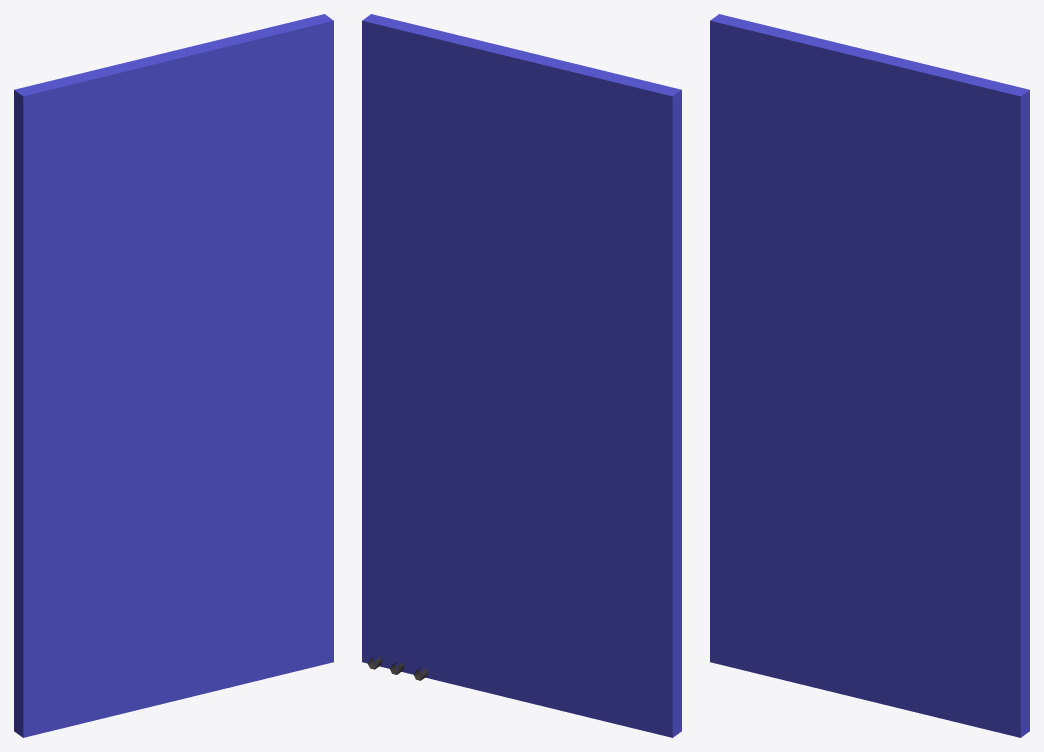
File: SciFi_pipes_06.DAE
3 renders of one model, left to right at view 1: azimuth 30°, elevation 25°; view 2: azimuth 150°, elevation 25°; view 3: azimuth 330°, elevation 25°, orthographic.
Visible parts, largest first — view 1: bounds; view 2: bounds; view 3: bounds.
Boxes of the visible parts, bbox=[...] form: bounds: bbox=[14, 14, 333, 737]; bounds: bbox=[362, 14, 681, 737]; bounds: bbox=[710, 14, 1029, 737].
Size of the model in its own units: 386 by 31.05 by 762.
